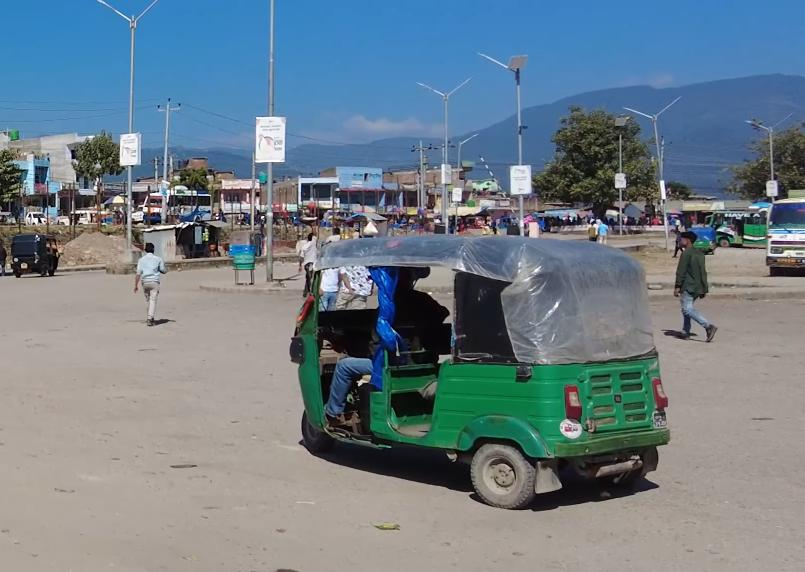auto_rickshaw: (282, 227, 672, 512), (9, 233, 62, 281)
bus: (762, 189, 805, 277), (139, 188, 214, 225), (708, 209, 770, 248)
